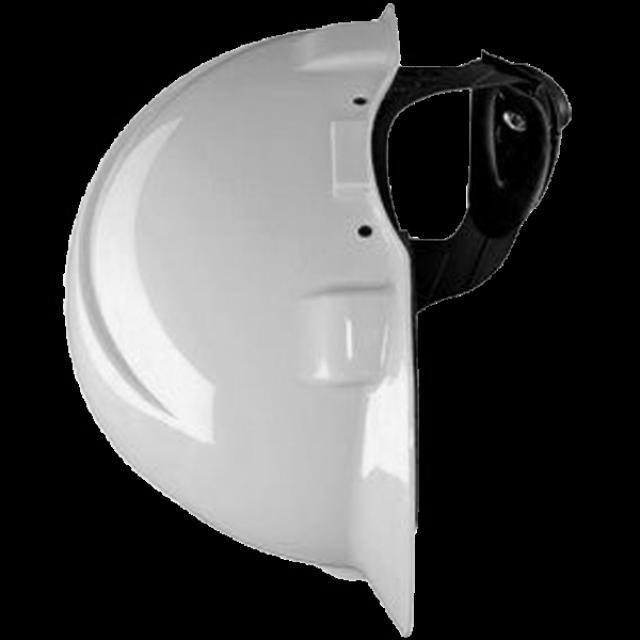safety_helmet: (64, 3, 579, 637)
